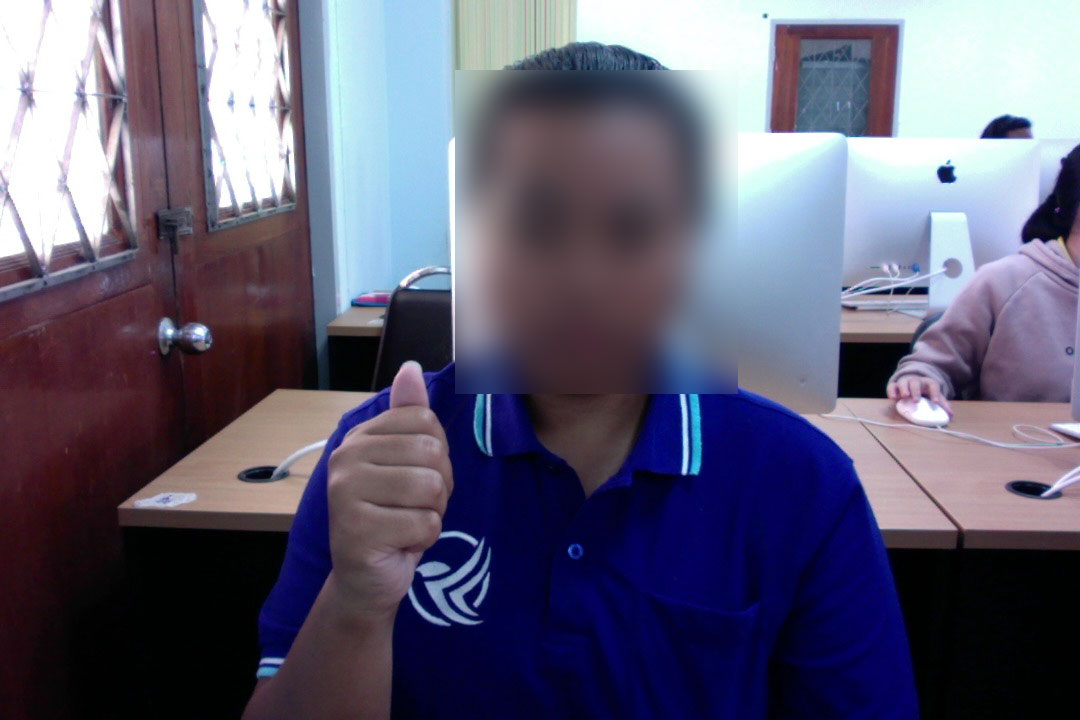or: (309, 355, 479, 611)
